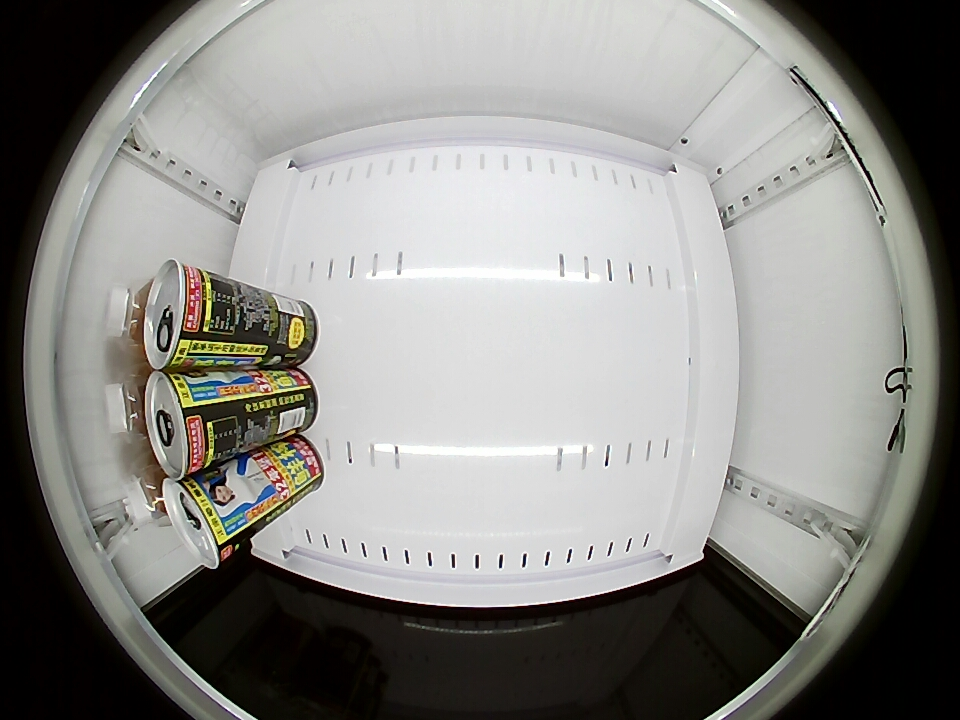dongpeng-b: (103, 280, 153, 351), (120, 463, 172, 530), (104, 371, 151, 443)
yezhi: (144, 259, 219, 372), (145, 370, 219, 478), (163, 473, 240, 569)
